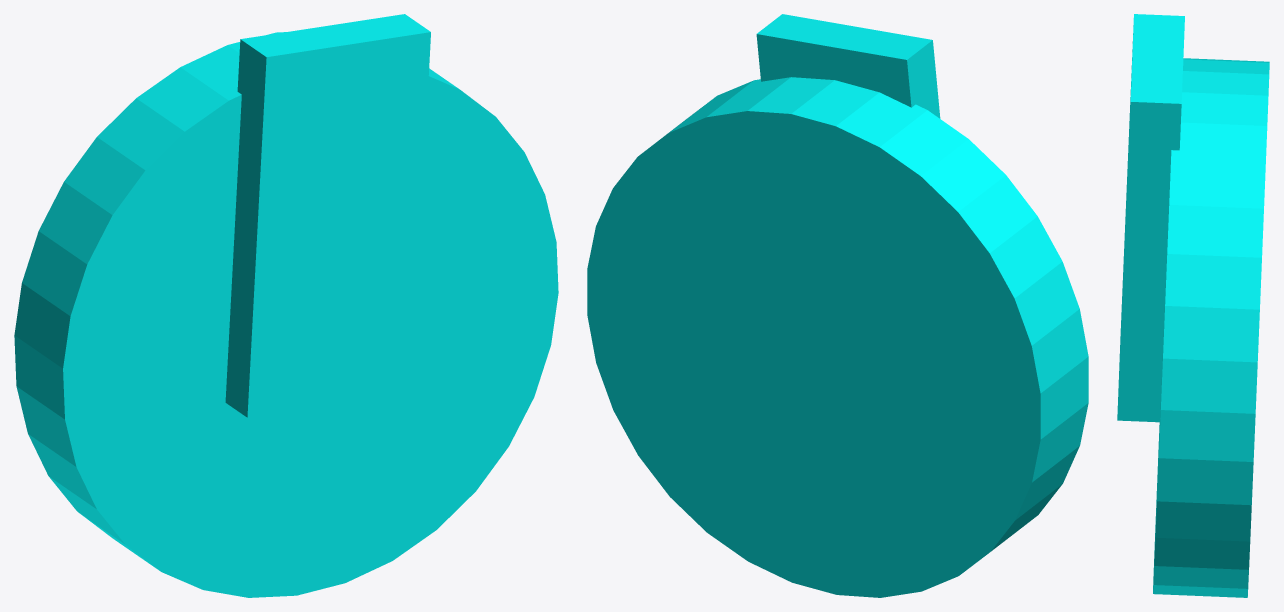
File: StartSpindleSwitch.fbx
The picture shows the model from 3 angles, left to right: view 1: azimuth 30°, elevation 25°; view 2: azimuth 150°, elevation 25°; view 3: azimuth 270°, elevation 25°; orthographic projection. The views are drawn at different scales.
Parts seen in each view (by area): view 1: Cylinder; view 2: Cylinder; view 3: Cylinder.
Part boxes in pixels (box(x1,y1,x2,y2)): Cylinder: box(14, 14, 558, 597); Cylinder: box(587, 14, 1088, 597); Cylinder: box(1117, 14, 1269, 597).
Size of the model in its own units: 2.72 by 2.96 by 0.7714.
